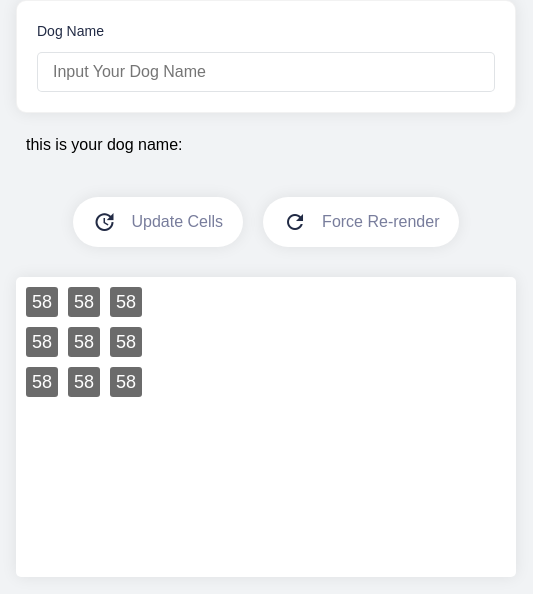
Testing Part 4 Context Section › Cell Item Should Be Updated
Expected: the 2nd button with test id "grid-cell" reads "58", [68,287,100,317]
Click the 1st button with test id "grid-cell" at (42, 302), box [26,287,58,317]
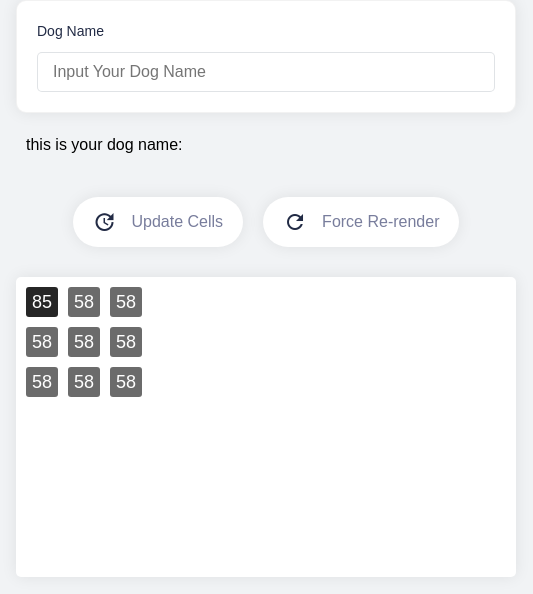
Expected: the 1st button with test id "grid-cell" reads "58", [68,287,100,317]
Now the button with test id "grid-cell" reads "85", box [26,287,58,317]
